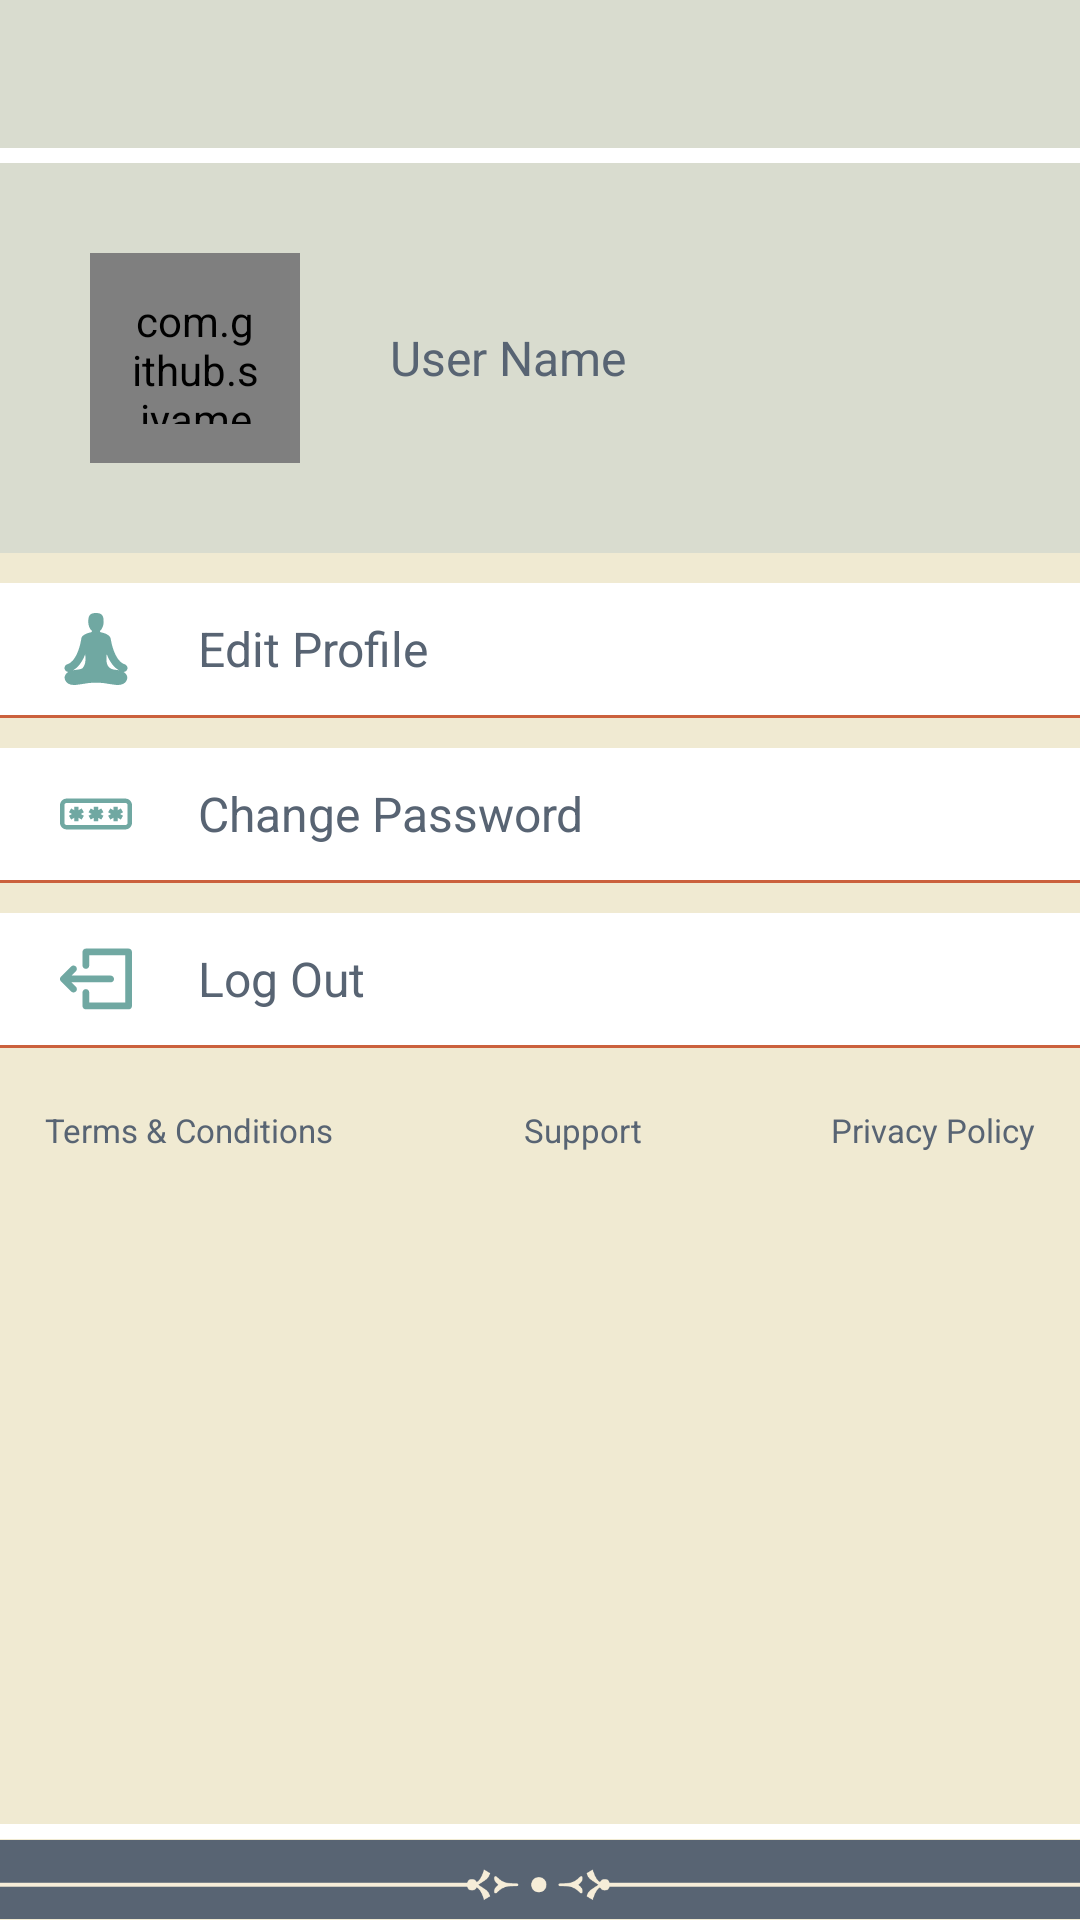

Named icons in this screenshot (1080px x 1920px) and their bounding boxes, (x1, y1, x2, y2):
user yog: (64, 613, 128, 685)
